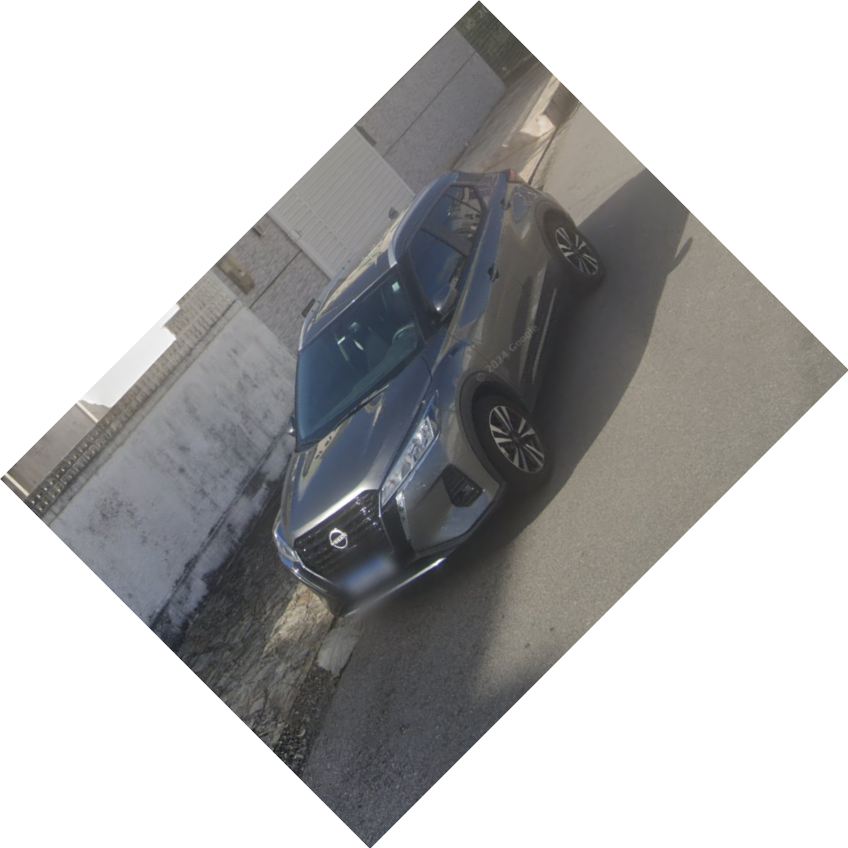car: (270, 165, 609, 621)
